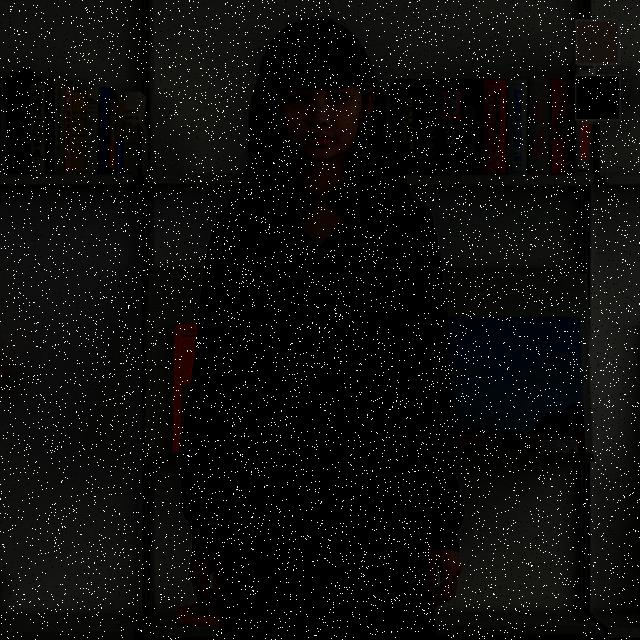Blouse_deep: (186, 169, 464, 558)
